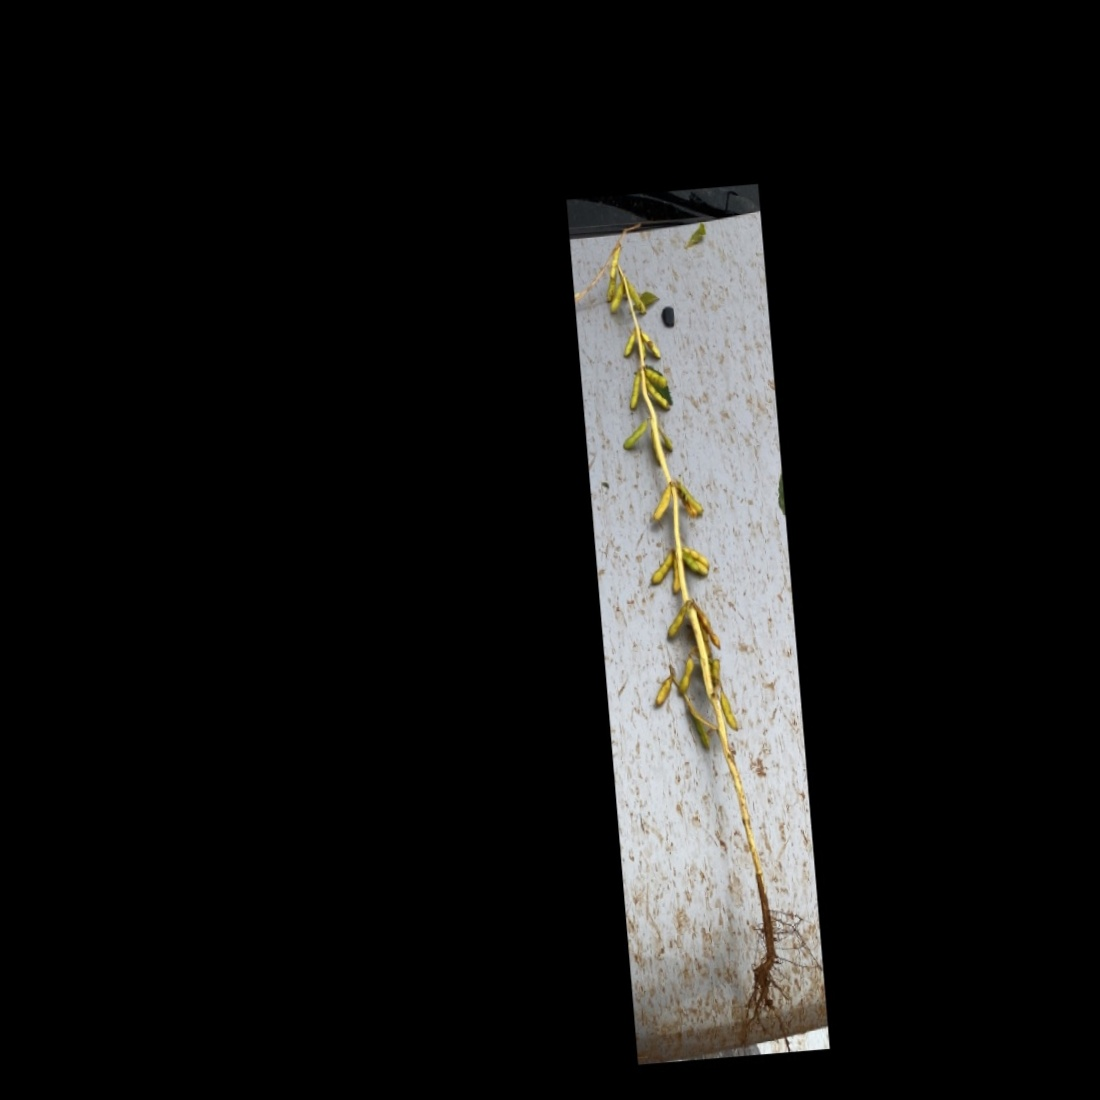pod: (616, 418, 651, 456), (641, 547, 675, 585), (660, 604, 693, 642), (648, 479, 675, 524), (699, 603, 723, 652), (674, 653, 699, 698), (718, 687, 742, 733), (648, 674, 677, 709), (690, 713, 713, 754), (623, 371, 644, 411), (656, 422, 679, 458), (627, 279, 648, 318), (607, 280, 627, 319), (618, 332, 638, 359)
soy: (580, 227, 809, 1037)
